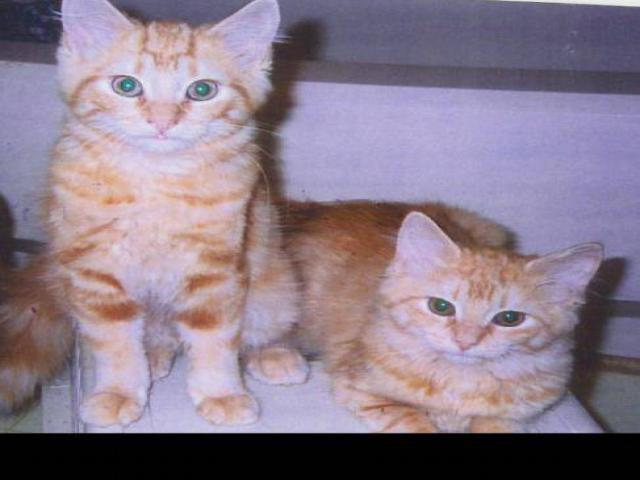cat: (297, 202, 613, 430)
